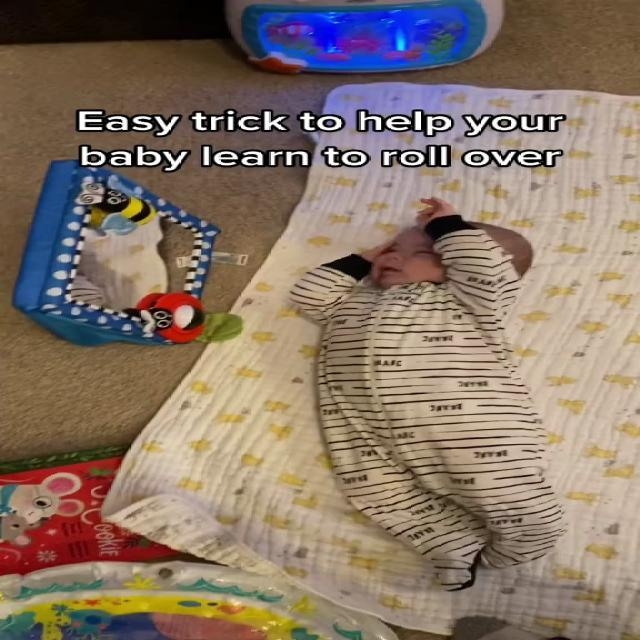baby: (287, 193, 593, 592)
